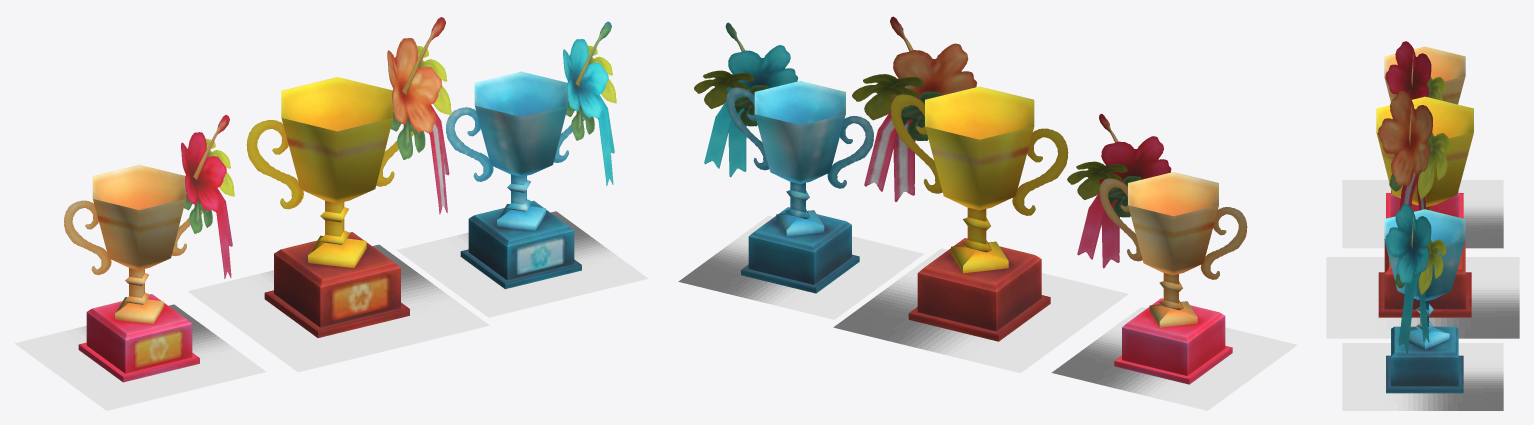
The model's file is trophies 3.dae.
3 renders of one model, left to right at view 1: azimuth 30°, elevation 25°; view 2: azimuth 150°, elevation 25°; view 3: azimuth 270°, elevation 25°, orthographic. The views are drawn at different scales.
Parts seen in each view (by area): view 1: vsn_mesh_5_mesh5, vsn_mesh_3_mesh3, vsn_mesh_1_mesh1, vsn_mesh_8_mesh8, vsn_mesh_7_mesh7, vsn_mesh_6_mesh6, vsn_mesh_4_mesh4, vsn_mesh_0_mesh0, vsn_mesh_2_mesh2; view 2: vsn_mesh_5_mesh5, vsn_mesh_3_mesh3, vsn_mesh_1_mesh1, vsn_mesh_8_mesh8, vsn_mesh_4_mesh4, vsn_mesh_6_mesh6, vsn_mesh_7_mesh7, vsn_mesh_2_mesh2, vsn_mesh_0_mesh0; view 3: vsn_mesh_8_mesh8, vsn_mesh_3_mesh3, vsn_mesh_7_mesh7, vsn_mesh_5_mesh5, vsn_mesh_6_mesh6, vsn_mesh_4_mesh4, vsn_mesh_2_mesh2, vsn_mesh_1_mesh1, vsn_mesh_0_mesh0.
Boxes of the visible parts, <box> form: vsn_mesh_5_mesh5: <box>264,77,409,337</box>; vsn_mesh_3_mesh3: <box>460,71,581,289</box>; vsn_mesh_1_mesh1: <box>78,164,199,382</box>; vsn_mesh_8_mesh8: <box>188,244,489,372</box>; vsn_mesh_7_mesh7: <box>396,211,648,317</box>; vsn_mesh_6_mesh6: <box>14,304,265,410</box>; vsn_mesh_4_mesh4: <box>246,17,451,214</box>; vsn_mesh_0_mesh0: <box>64,115,234,278</box>; vsn_mesh_2_mesh2: <box>446,21,616,185</box>; vsn_mesh_5_mesh5: <box>908,86,1050,341</box>; vsn_mesh_3_mesh3: <box>741,81,859,293</box>; vsn_mesh_1_mesh1: <box>1114,172,1232,384</box>; vsn_mesh_8_mesh8: <box>833,248,1128,373</box>; vsn_mesh_4_mesh4: <box>852,16,1068,215</box>; vsn_mesh_6_mesh6: <box>1051,307,1297,410</box>; vsn_mesh_7_mesh7: <box>678,216,924,319</box>; vsn_mesh_2_mesh2: <box>694,22,873,188</box>; vsn_mesh_0_mesh0: <box>1067,113,1247,279</box>; vsn_mesh_8_mesh8: <box>1326,257,1519,338</box>; vsn_mesh_3_mesh3: <box>1384,209,1465,393</box>; vsn_mesh_7_mesh7: <box>1342,343,1503,410</box>; vsn_mesh_5_mesh5: <box>1376,96,1473,317</box>; vsn_mesh_6_mesh6: <box>1342,180,1503,248</box>; vsn_mesh_4_mesh4: <box>1378,90,1450,210</box>; vsn_mesh_2_mesh2: <box>1385,204,1446,353</box>; vsn_mesh_1_mesh1: <box>1384,46,1465,218</box>; vsn_mesh_0_mesh0: <box>1385,41,1446,100</box>.
Bounding box in the file's own units: 2.19 × 0.7035 × 0.9735.
4 materials, 4 textured.
